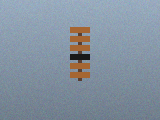defect: (70, 53, 90, 61)
insulator: (68, 25, 92, 82)
